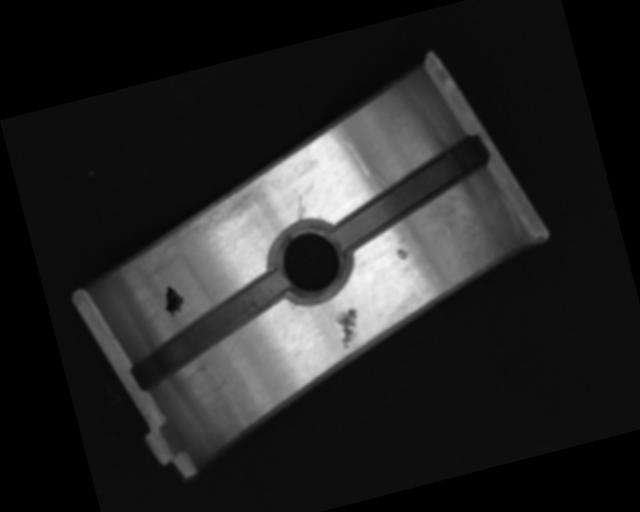blot: (159, 282, 187, 319)
bruise: (333, 305, 367, 350), (395, 244, 410, 262)
gap: (116, 267, 303, 391), (321, 135, 500, 250)
hole: (260, 209, 359, 309)
nick: (326, 120, 372, 183), (292, 194, 310, 223)
scratch: (116, 181, 269, 271)
